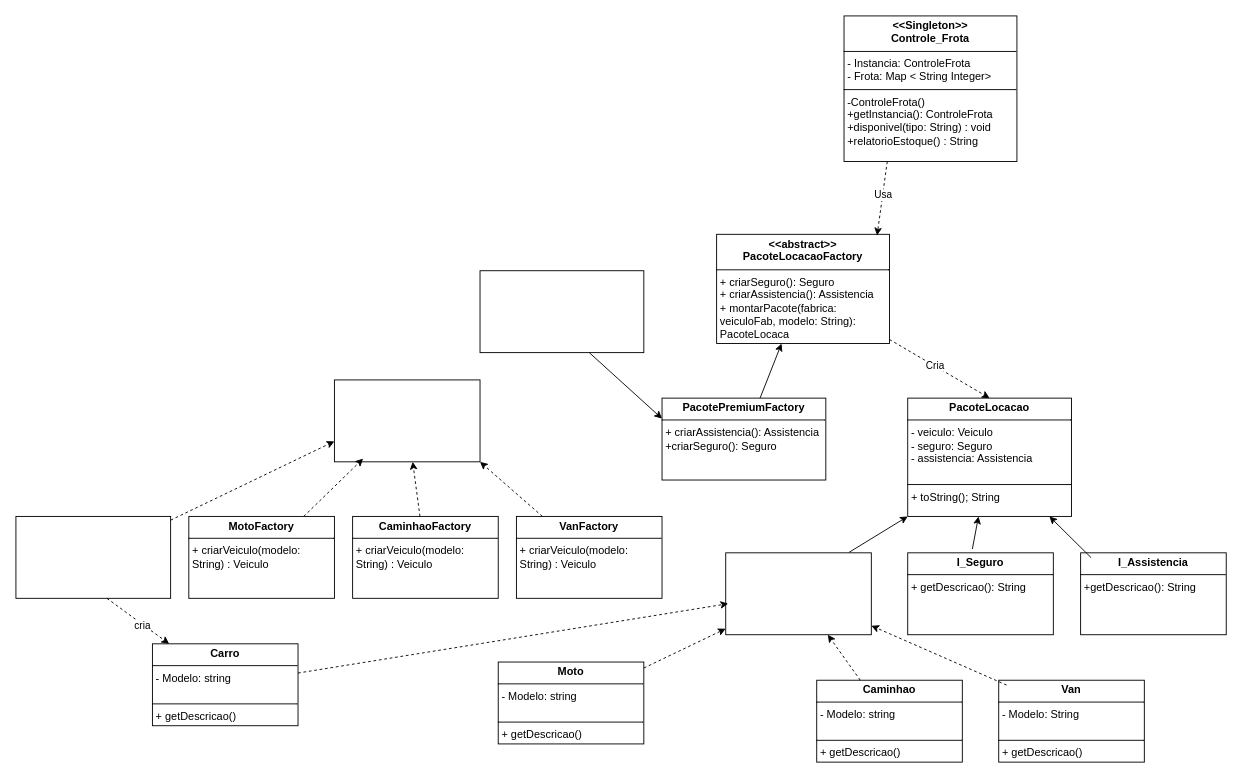
This 1242x778 diagram has some shape labels left out. Each missing label, with the centre of its shape:
"CarroFactory + criarVeiculo(modelo: String) : Veiculo" goes at point 93,557.
"I_Veiculo + getDescricao(): String" goes at point 798,593.
"I_VeiculoFactory + criarVeiculo(modelo: String) : Veiculo" goes at point 407,420.
"PacoteEconomicoFactory + criarAssistencia(): Assistencia +criarSeguro(): Seguro" goes at point 561,311.
